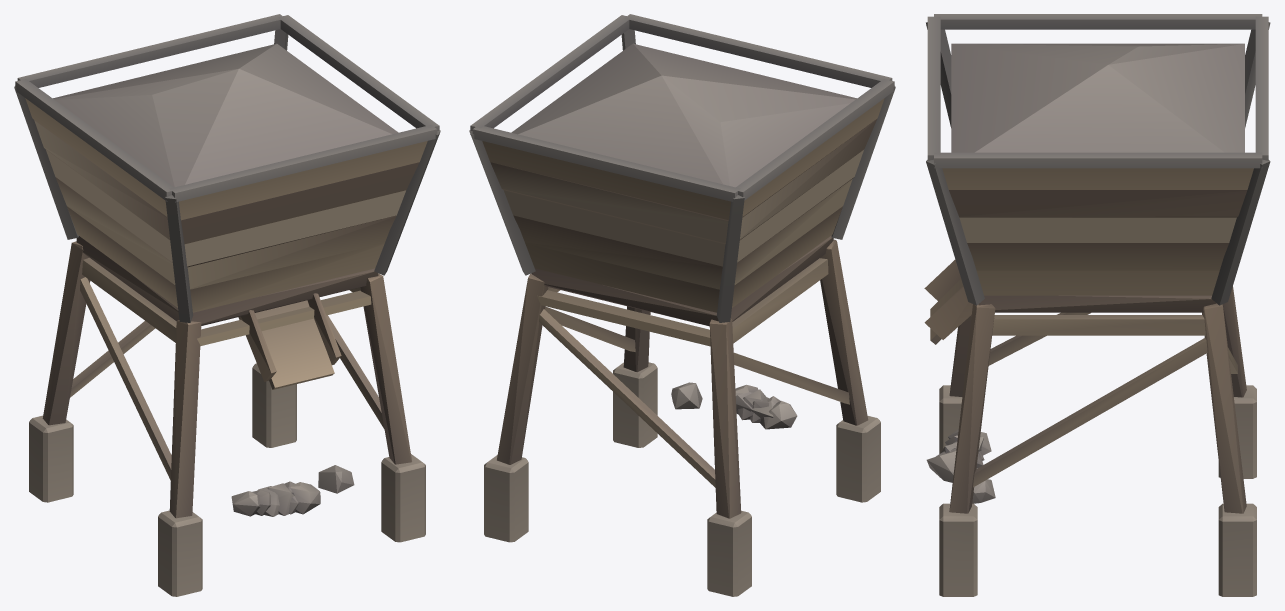
Rendered from orebin.lod1.glb.
The picture shows the model from 3 angles, left to right: view 1: azimuth 30°, elevation 25°; view 2: azimuth 150°, elevation 25°; view 3: azimuth 270°, elevation 25°; orthographic projection. The views are drawn at different scales.
Size of the model in its own units: 3.41 by 5.16 by 3.42.
